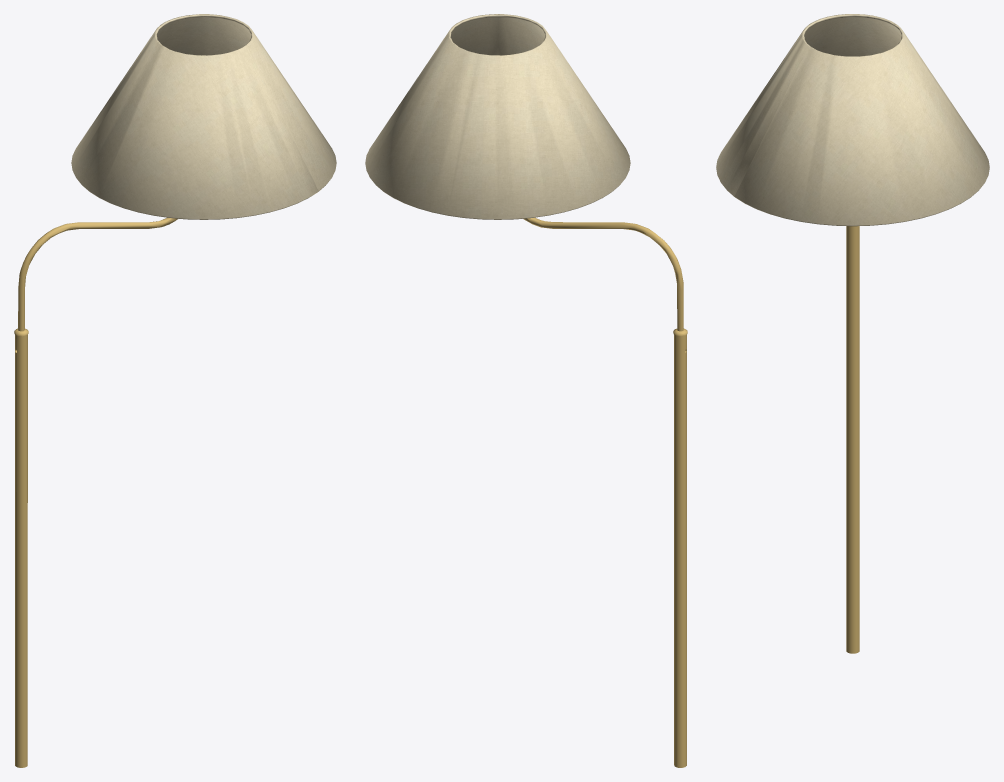
The model's file is Lamp.glb.
The picture shows the model from 3 angles, left to right: view 1: azimuth 30°, elevation 25°; view 2: azimuth 150°, elevation 25°; view 3: azimuth 270°, elevation 25°; orthographic projection. The views are drawn at different scales.
Parts seen in each view (by area): view 1: Lamp; view 2: Lamp; view 3: Lamp.
Boxes of the visible parts, x1,y1,x2,y2 form: Lamp: [14, 14, 336, 767]; Lamp: [365, 14, 687, 767]; Lamp: [716, 14, 989, 653].
Size of the model in its own units: 0.8951 by 2 by 0.6774.
Materials: 1 (1 with a texture image).
